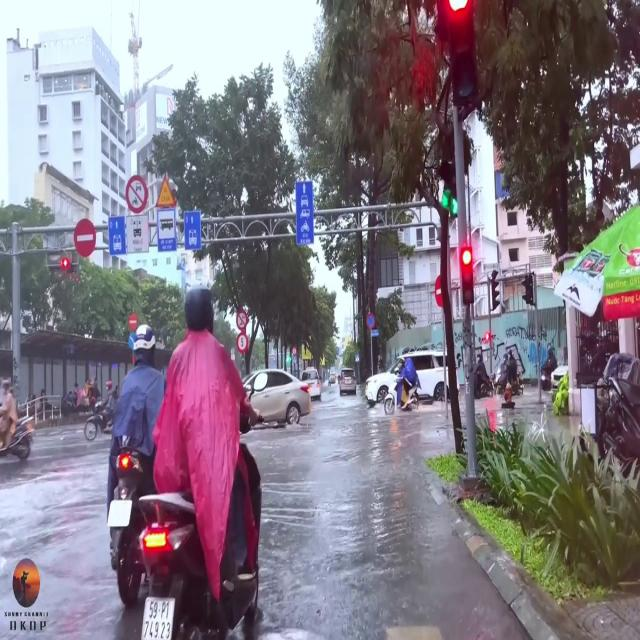bien_trang: (141, 593, 172, 639)
